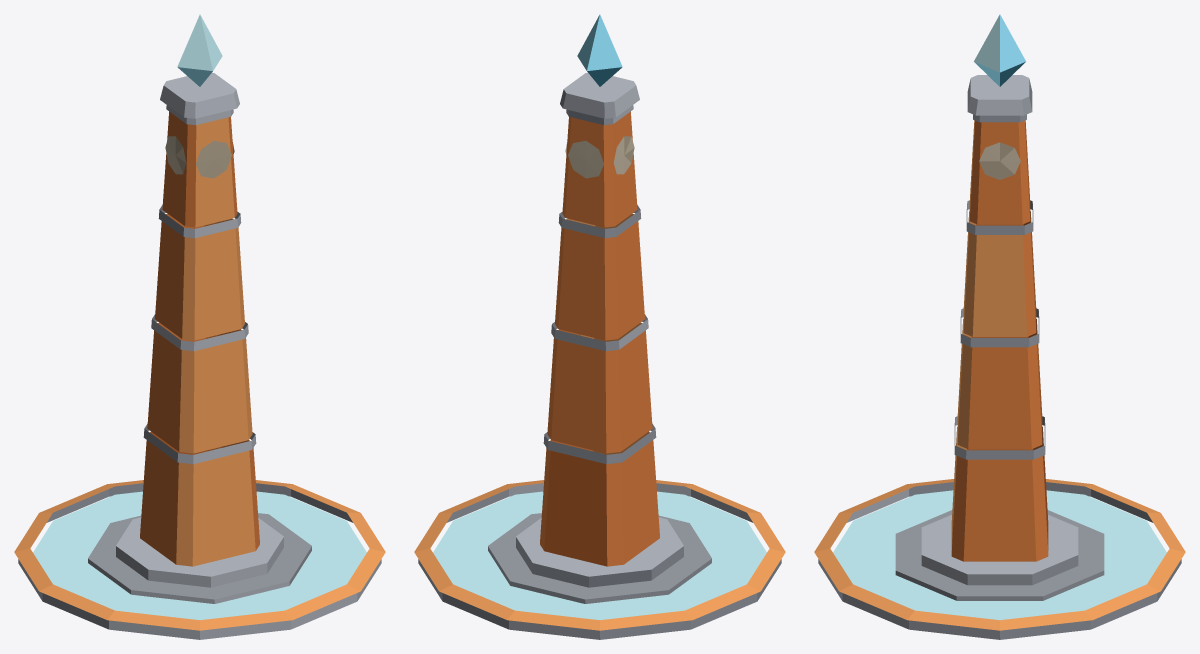
The model's file is landmark-far.glb.
The picture shows the model from 3 angles, left to right: view 1: azimuth 30°, elevation 25°; view 2: azimuth 150°, elevation 25°; view 3: azimuth 270°, elevation 25°; orthographic projection.
Visible parts, largest first — view 1: obelisk-far; view 2: obelisk-far; view 3: obelisk-far.
Boxes of the visible parts, x1,y1,x2,y2 form: obelisk-far: (14, 14, 385, 639); obelisk-far: (414, 14, 785, 639); obelisk-far: (814, 14, 1185, 639).
Bounding box in the file's own units: 18.4 × 30 × 18.4.
Materials: 1 (1 with a texture image).
